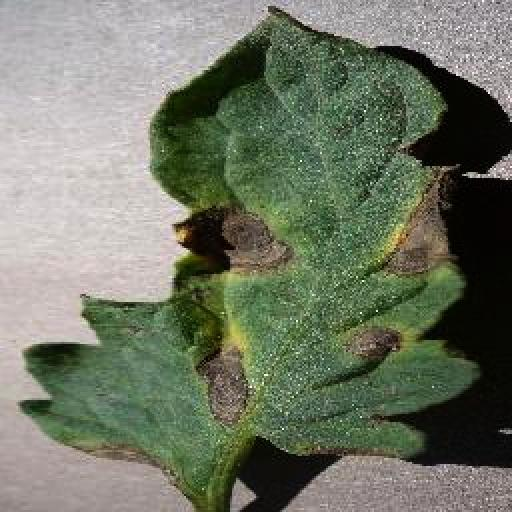disease_tomato: (26, 8, 483, 466)
